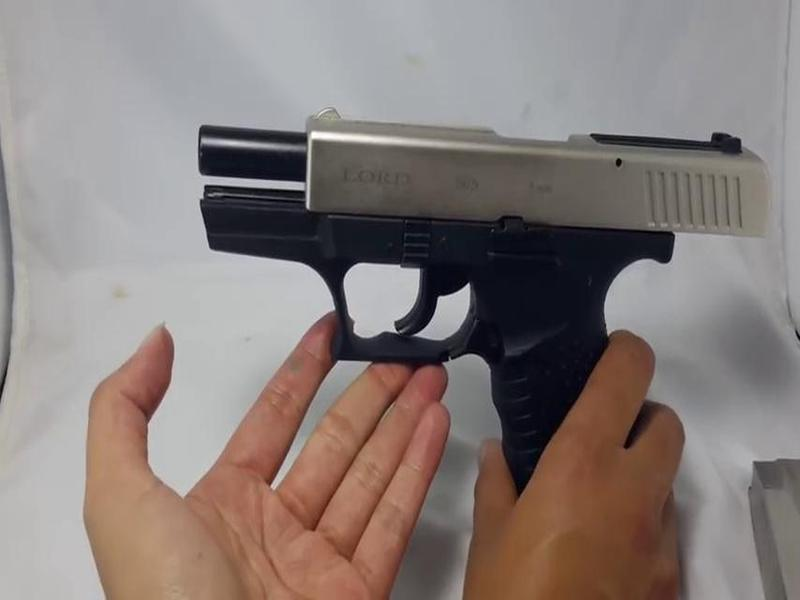Pistola: (175, 87, 778, 494)
